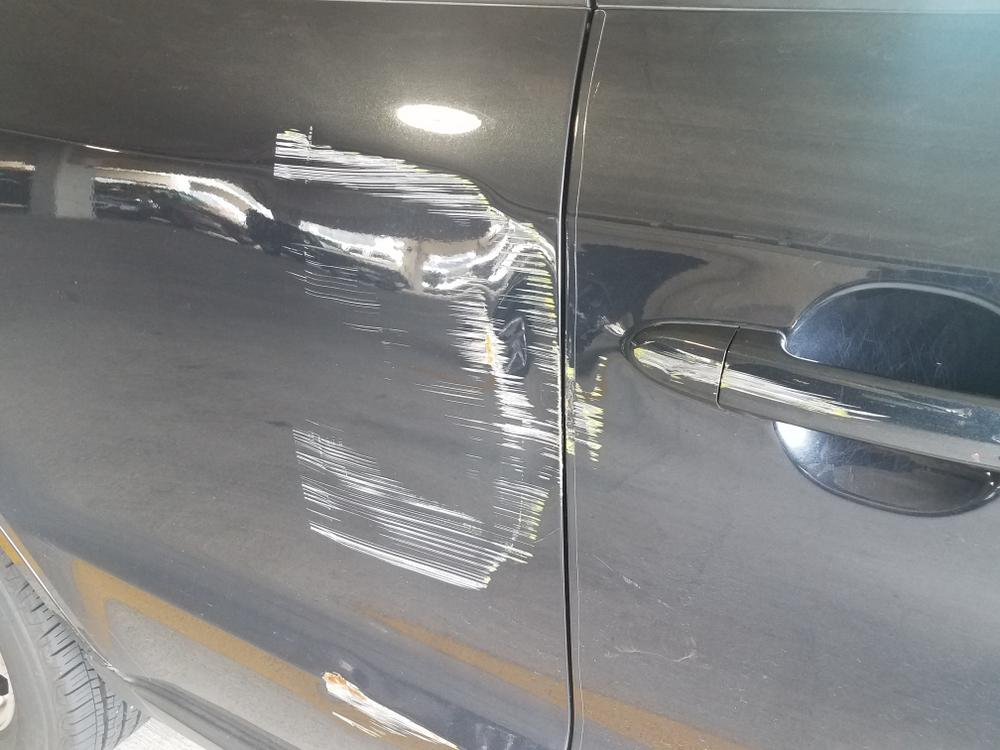scratch: (269, 130, 565, 598), (633, 340, 906, 431), (320, 667, 470, 750), (565, 345, 609, 471)
